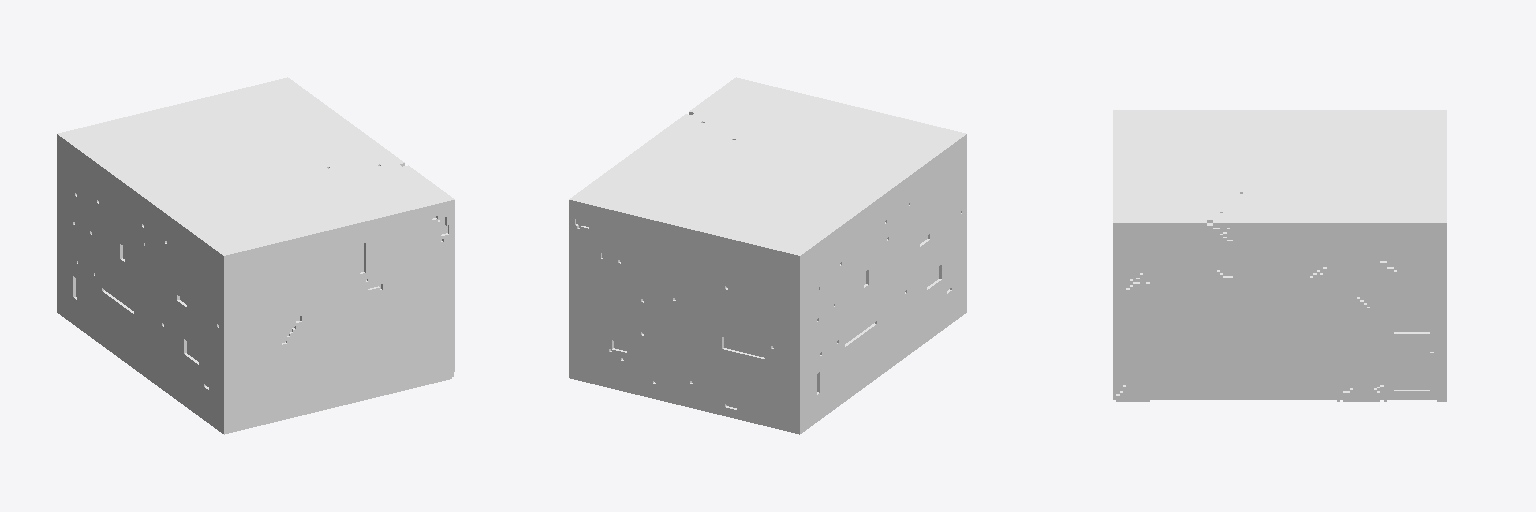
The model's file is BrokeHouse.obj.
3 renders of one model, left to right at view 1: azimuth 30°, elevation 25°; view 2: azimuth 150°, elevation 25°; view 3: azimuth 270°, elevation 25°, orthographic.
Bounding box in the file's own units: 80 × 59 × 100.